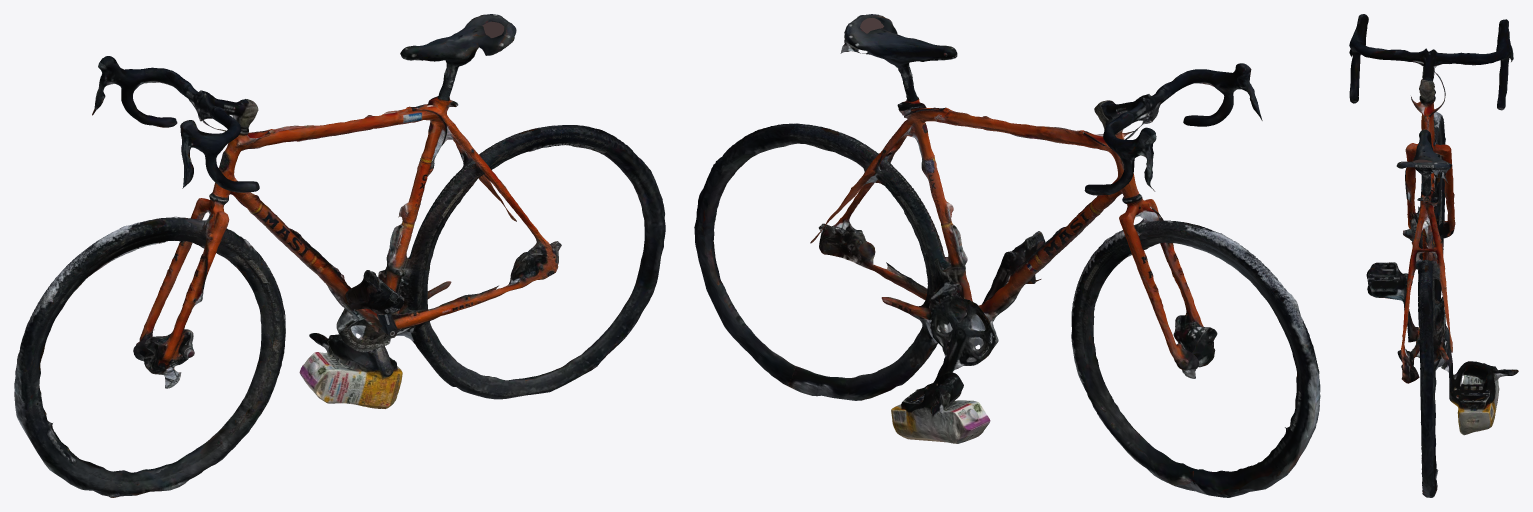
Rendered from basement_3_bike_2-transformed.glb.
3 renders of one model, left to right at view 1: azimuth 30°, elevation 25°; view 2: azimuth 150°, elevation 25°; view 3: azimuth 270°, elevation 25°, orthographic. The views are drawn at different scales.
Parts seen in each view (by area): view 1: bike; view 2: bike; view 3: bike.
Boxes of the visible parts, left/top/right/bottom form: bike: left=14, top=14, right=665, bottom=497; bike: left=694, top=14, right=1320, bottom=497; bike: left=1349, top=14, right=1518, bottom=497.
Bounding box in the file's own units: 1.58 × 0.9533 × 0.4524.
Materials: 1 (1 with a texture image).
